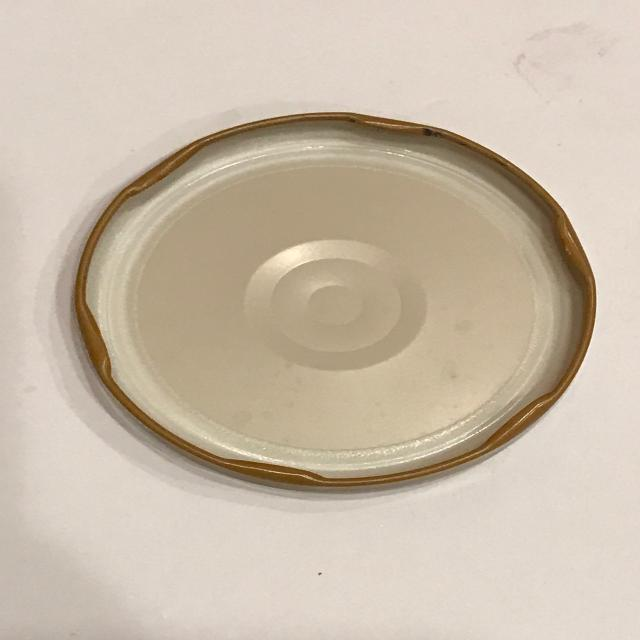metal: (72, 111, 598, 491)
